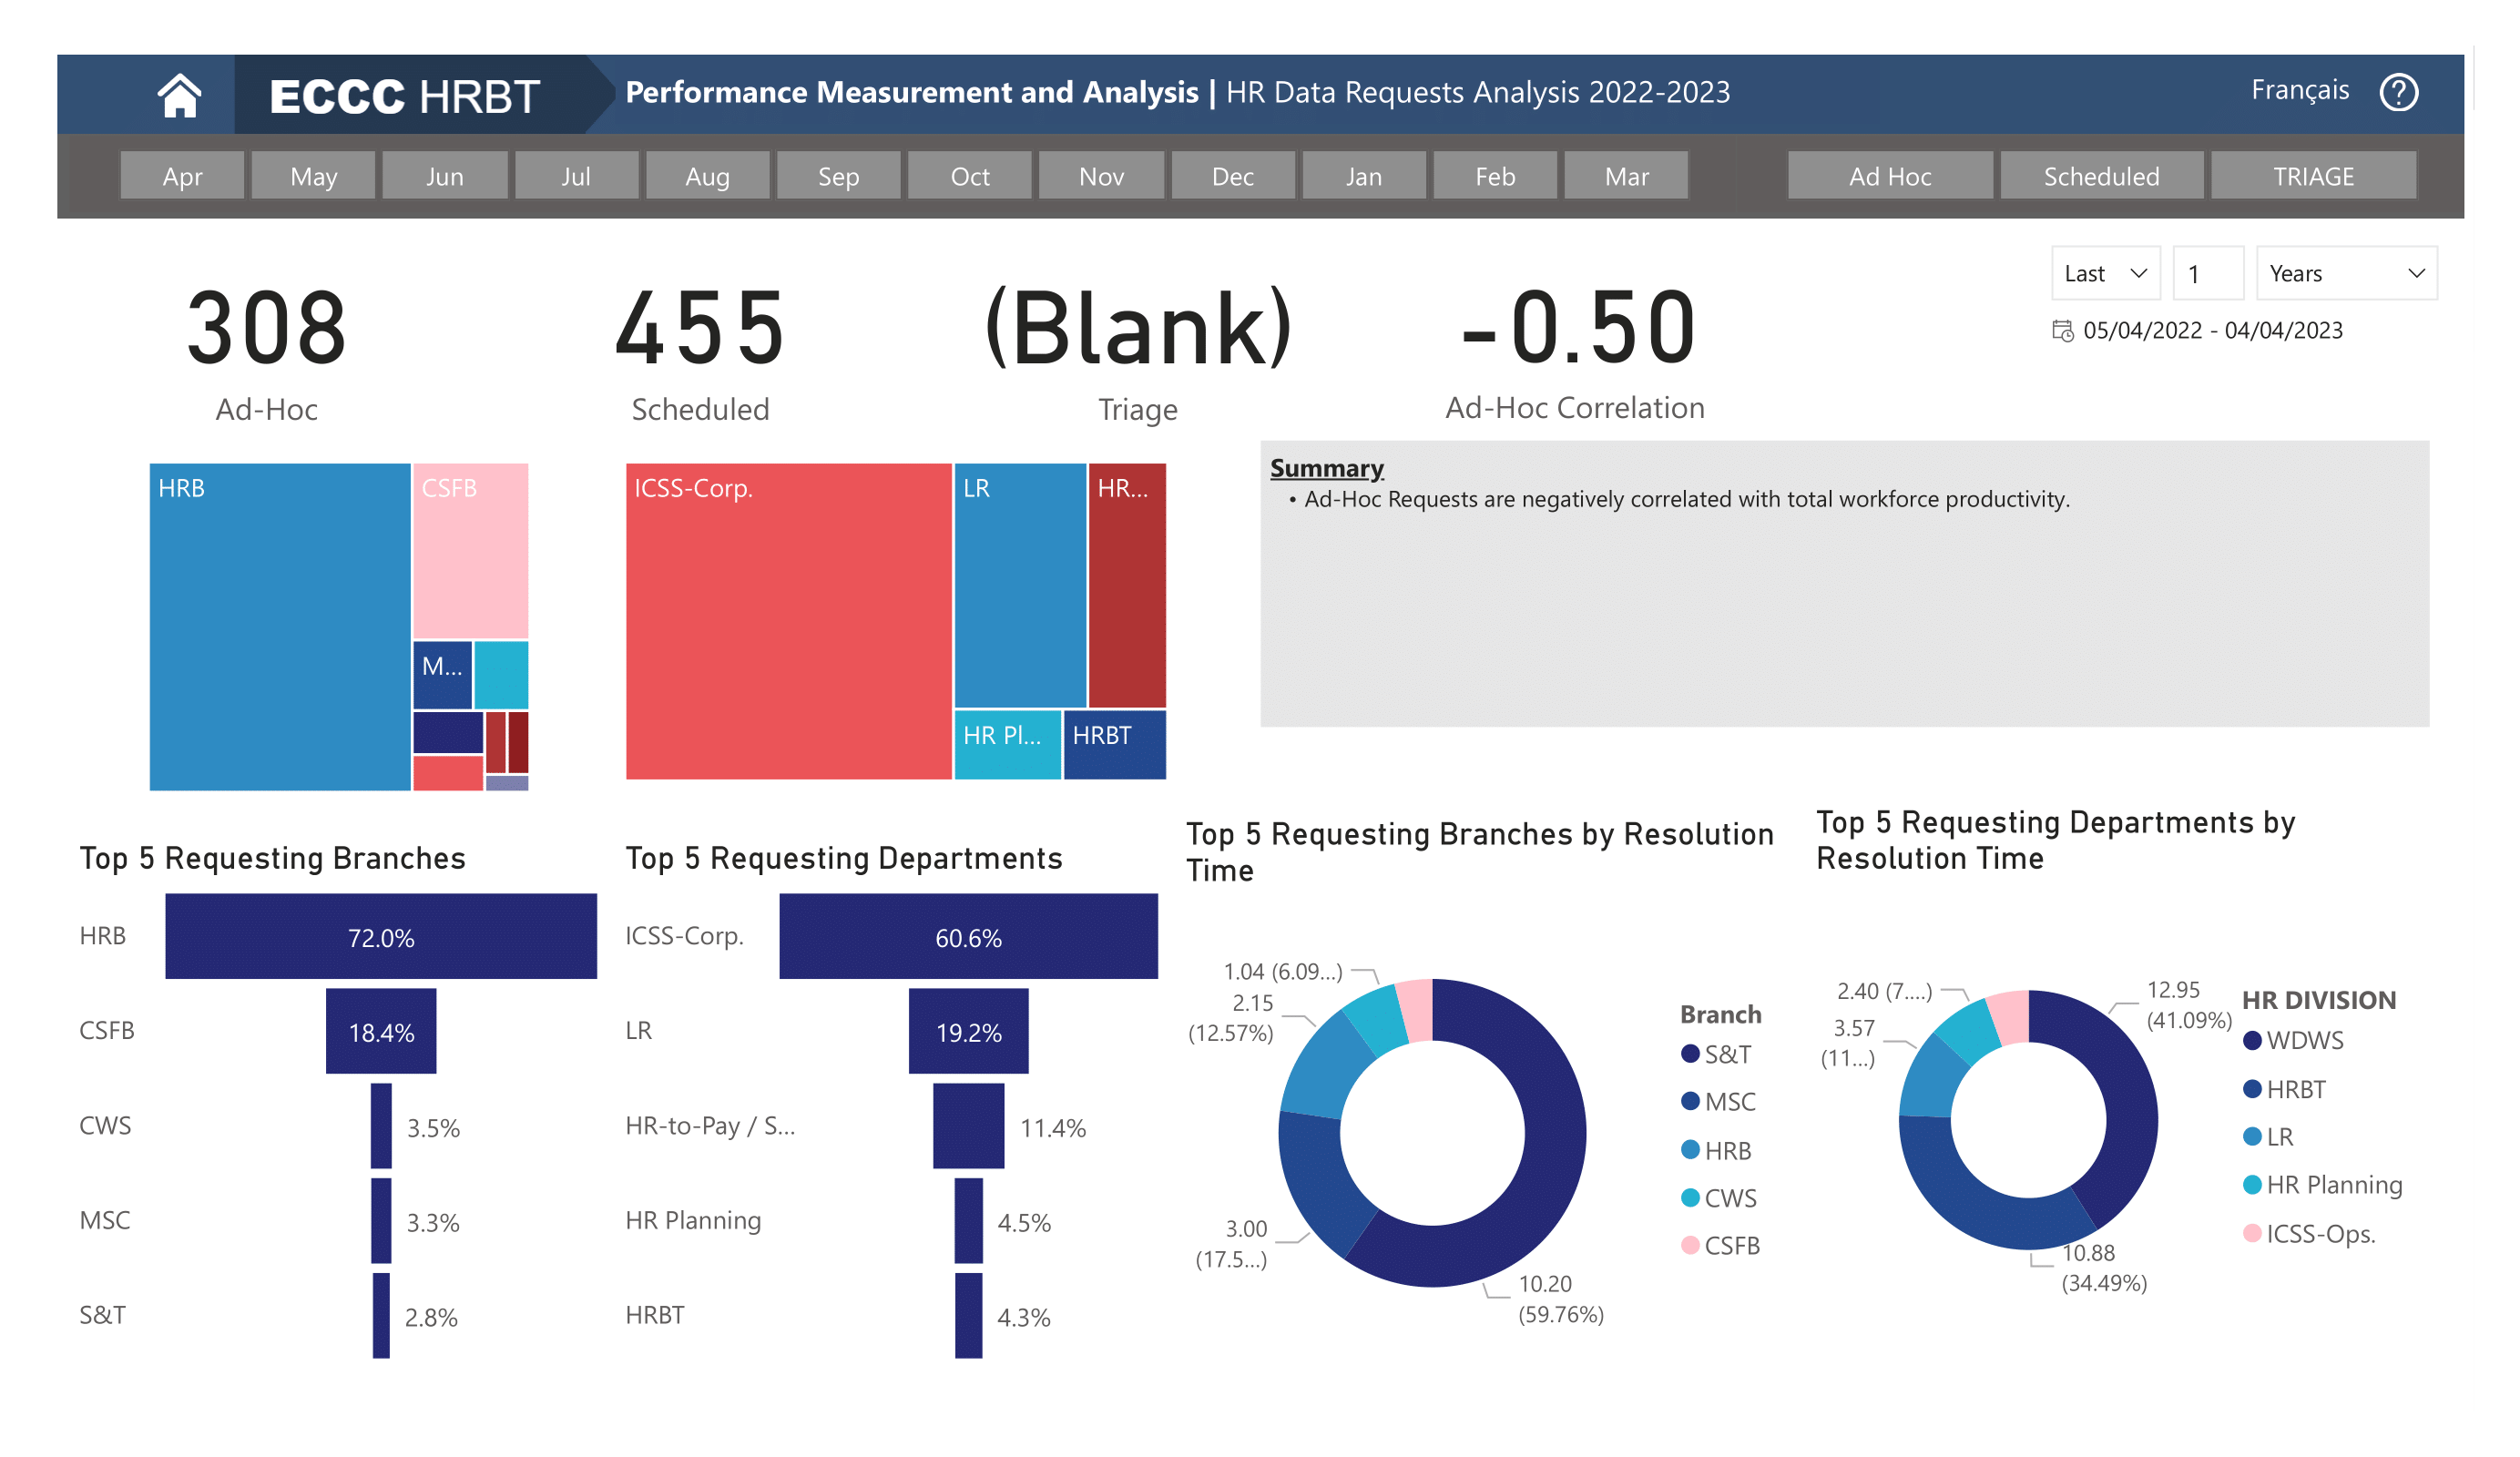

This screenshot's page, from the dashboard's own definition file:
{"tool":"powerbi","page":{"name":"Request Source Highlights","canvas":[1280,720],"ordinal":5},"visuals":[{"type":"image","box":[0.9,0,1278.3,96],"z":0},{"type":"image","box":[54.6,8.8,32.6,32.6],"z":1000},{"type":"actionButton","box":[1159.4,3.1,66.2,38.1],"z":2000},{"type":"image","box":[1225.7,8.8,30,30],"z":3000},{"type":"card","fields":{"Values":["CountNonNull(HR_DATA_REQUEST_REPORT.INC_CAT_N)"]},"box":[1,95.2,230.3,113.7],"z":4000},{"type":"card","fields":{"Values":["CountNonNull(HR_DATA_REQUEST_REPORT.INC_CAT_N)"]},"box":[230.3,95.2,230.3,113.7],"z":5000},{"type":"card","fields":{"Values":["CountNonNull(HR_DATA_REQUEST_REPORT.INC_CAT_N)"]},"box":[460.6,95.2,230.3,113.7],"z":6000},{"type":"slicer","fields":{"Values":["MonthOrder.MonthOrderDesc"]},"box":[12.6,47.6,878.4,39.8],"z":7000},{"type":"slicer","fields":{"Values":["Date.Date"]},"box":[1043.6,95.2,230.3,104],"z":8000},{"type":"slicer","fields":{"Values":["HR_DATA_REQUEST_REPORT.INC_CAT_N"]},"box":[891,47.6,382.8,39.8],"z":9000},{"type":"funnel","title":"Top 5 Requesting Branches","fields":{"Category":["HR_DATA_REQUEST_REPORT.AFF_BRANCH_TEXT"],"Y":["CountNonNull(HR_DATA_REQUEST_REPORT.INCIDENT_REF)"]},"box":[12.2,417.8,287.8,284.4],"z":10000},{"type":"funnel","title":"Top 5 Requesting Departments","fields":{"Y":["CountNonNull(HR_DATA_REQUEST_REPORT.INCIDENT_REF)"],"Category":["Sheet4.HR DIVISION"]},"box":[300,417.8,295.6,284.4],"z":11000},{"type":"donutChart","title":"Top 5 Requesting Branches by Resolution Time","fields":{"Y":["Avg(HR_DATA_REQUEST_REPORT.RESOLUTION_TIME)"],"Category":["HR_DATA_REQUEST_REPORT.AFF_BRANCH_TEXT"]},"box":[595.6,405.6,333.3,296.7],"z":12000},{"type":"treemap","fields":{"Group":["Sheet4.HR DIVISION"],"Values":["CountNonNull(HR_DATA_REQUEST_REPORT.INCIDENT_REF)"]},"box":[300,215,296.2,177.5],"z":13000},{"type":"treemap","title":"Requests by Branch","fields":{"Group":["HR_DATA_REQUEST_REPORT.AFF_BRANCH_TEXT"],"Values":["CountNonNull(HR_DATA_REQUEST_REPORT.INCIDENT_REF)"]},"box":[50,215,211.2,183.8],"z":14000},{"type":"card","title":"Ad-Hoc Correlation","fields":{"Values":["Sheet1.Correlation between Ad-Hoc Time and Requests Completed"]},"box":[691.1,95.6,230,113.3],"z":15000},{"type":"textbox","box":[640,208.9,615.6,151.1],"z":16000},{"type":"donutChart","title":"Top 5 Requesting Departments by Resolution Time","fields":{"Category":["Sheet4.HR DIVISION"],"Y":["Avg(HR_DATA_REQUEST_REPORT.RESOLUTION_TIME)"]},"box":[928.9,398.9,333.3,295.6],"z":17000},{"type":"textbox","box":[300,8,666,33],"z":18000}]}

Visuals, with their boxes on the page's 1280x720 design canvas (x1, y1, x2, y2). These are canvas units, not pixel positions in the 2520x1457 screenshot, which may show the page scaled, cropped or inside an application window:
image: select_region(1, 0, 1279, 96)
image: select_region(55, 9, 87, 41)
actionButton: select_region(1159, 3, 1226, 41)
image: select_region(1226, 9, 1256, 39)
card - CountNonNull(HR_DATA_REQUEST_REPORT.INC_CAT_N): select_region(1, 95, 231, 209)
card - CountNonNull(HR_DATA_REQUEST_REPORT.INC_CAT_N): select_region(230, 95, 461, 209)
card - CountNonNull(HR_DATA_REQUEST_REPORT.INC_CAT_N): select_region(461, 95, 691, 209)
slicer - MonthOrder.MonthOrderDesc: select_region(13, 48, 891, 87)
slicer - Date.Date: select_region(1044, 95, 1274, 199)
slicer - HR_DATA_REQUEST_REPORT.INC_CAT_N: select_region(891, 48, 1274, 87)
"Top 5 Requesting Branches" funnel: select_region(12, 418, 300, 702)
"Top 5 Requesting Departments" funnel: select_region(300, 418, 596, 702)
"Top 5 Requesting Branches by Resolution Time" donutChart: select_region(596, 406, 929, 702)
treemap - Sheet4.HR DIVISION x CountNonNull(HR_DATA_REQUEST_REPORT.INCIDENT_REF): select_region(300, 215, 596, 392)
"Requests by Branch" treemap: select_region(50, 215, 261, 399)
"Ad-Hoc Correlation" card: select_region(691, 96, 921, 209)
textbox: select_region(640, 209, 1256, 360)
"Top 5 Requesting Departments by Resolution Time" donutChart: select_region(929, 399, 1262, 694)
textbox: select_region(300, 8, 966, 41)
